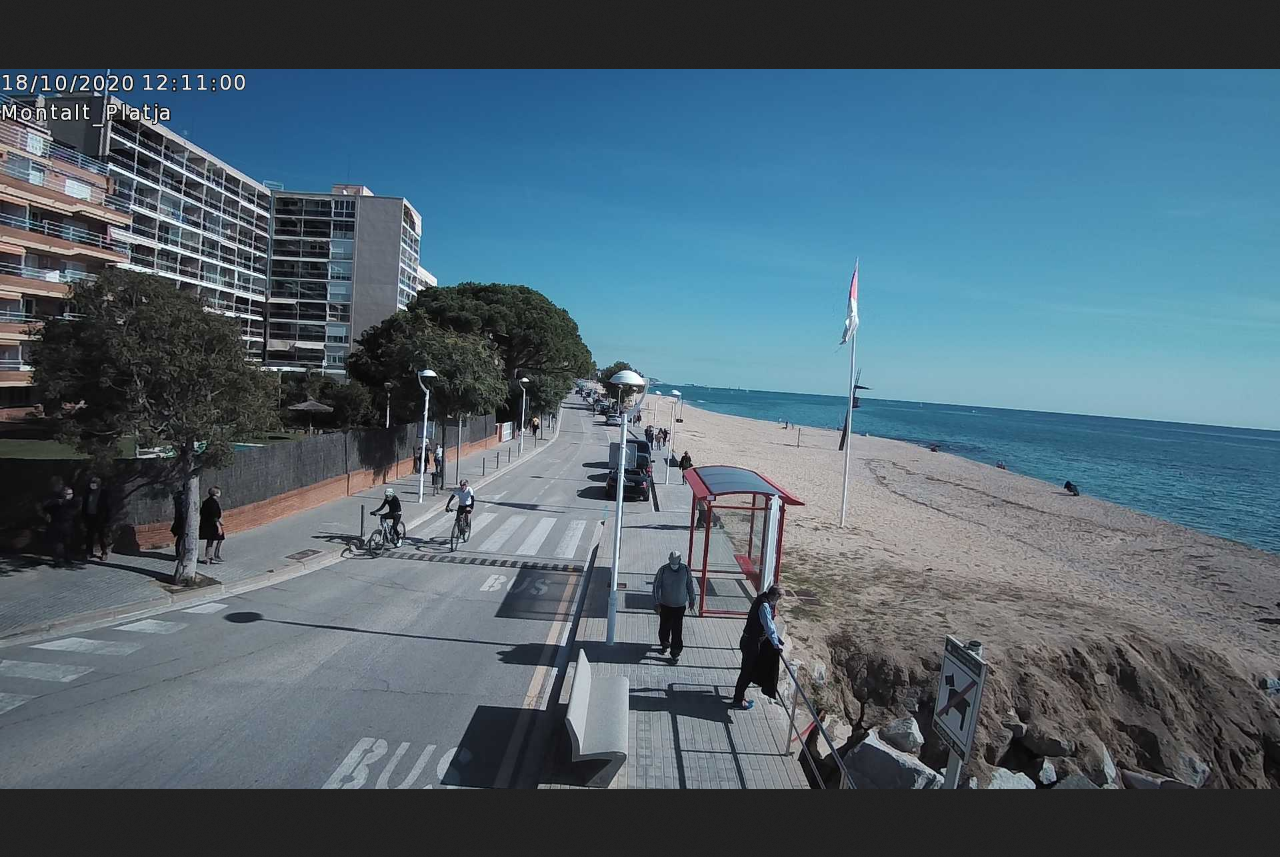no: (838, 258, 861, 344)
